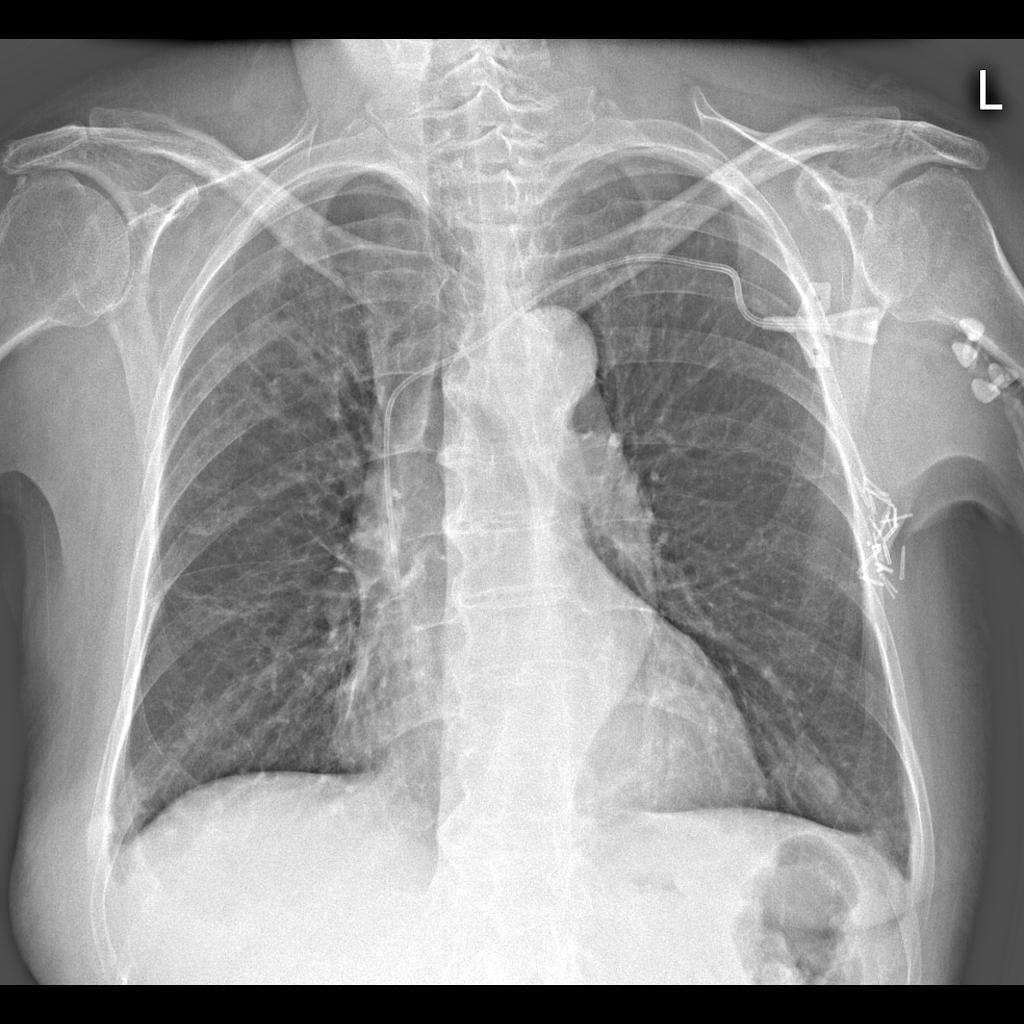Nodule: (794, 754, 845, 816)
